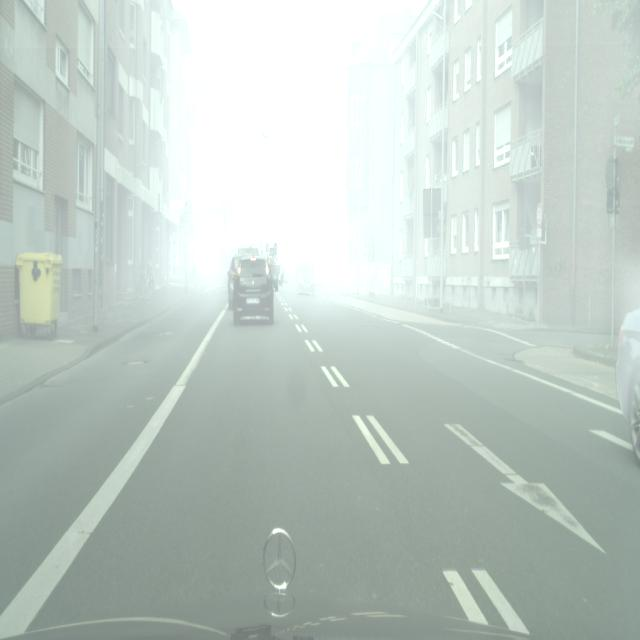bicycle: (227, 234, 262, 308)
bus: (616, 307, 640, 464), (232, 255, 274, 326), (295, 260, 317, 295), (193, 251, 215, 278), (279, 258, 293, 284)
